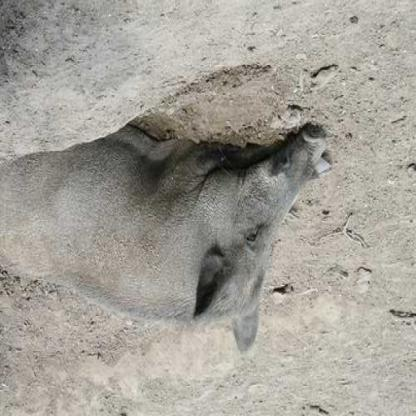boar: (0, 100, 361, 339)
